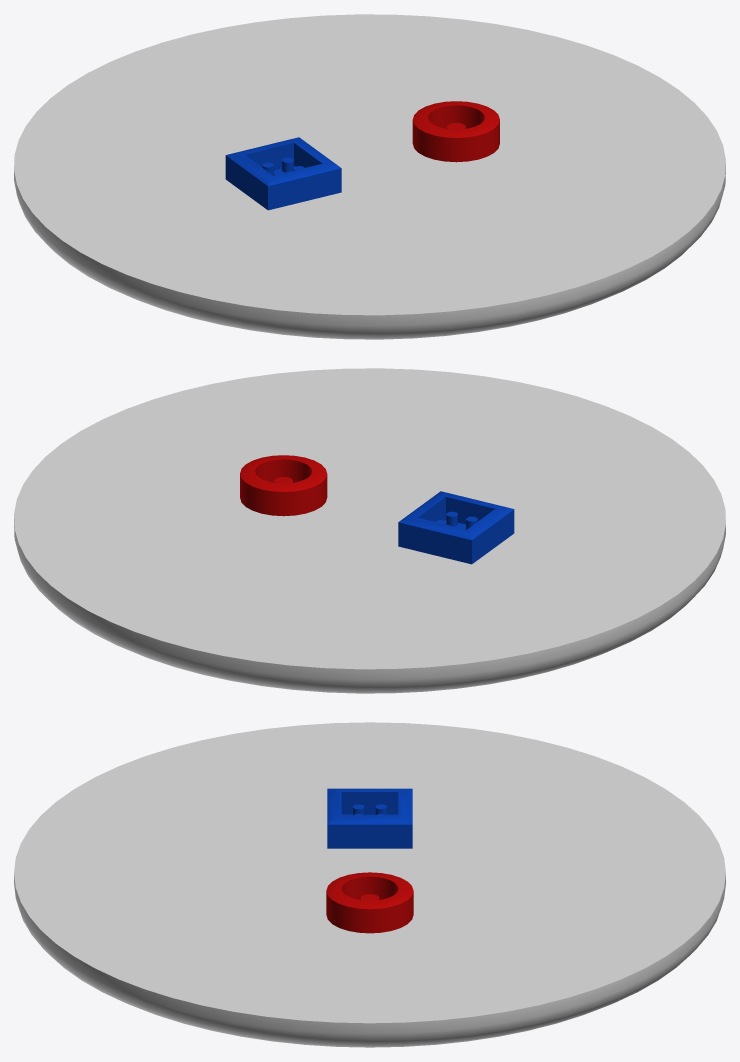
The model's file is Lamp.gltf.
3 renders of one model, top to bottom at view 1: azimuth 30°, elevation 25°; view 2: azimuth 150°, elevation 25°; view 3: azimuth 270°, elevation 25°, orthographic.
Parts seen in each view (by area): view 1: body; view 2: body; view 3: body.
Part boxes in pixels (x1=…): body: x1=14, y1=14, x2=725, y2=339; body: x1=14, y1=368, x2=725, y2=693; body: x1=14, y1=722, x2=725, y2=1047.
Bounding box in the file's own units: 0.5 × 0.0534 × 0.5.
